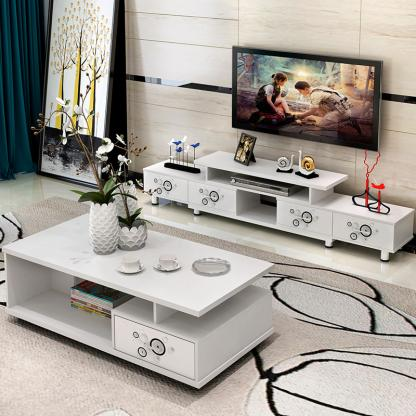TV stand: (139, 136, 416, 268)
